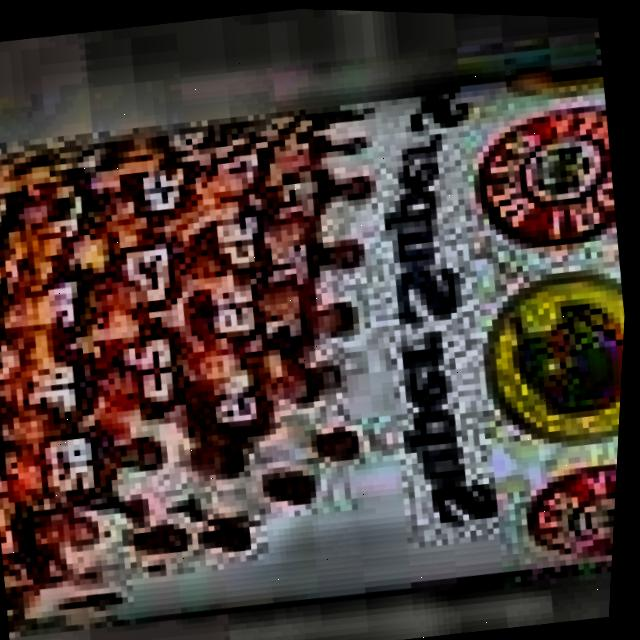metal: (0, 20, 639, 640)
